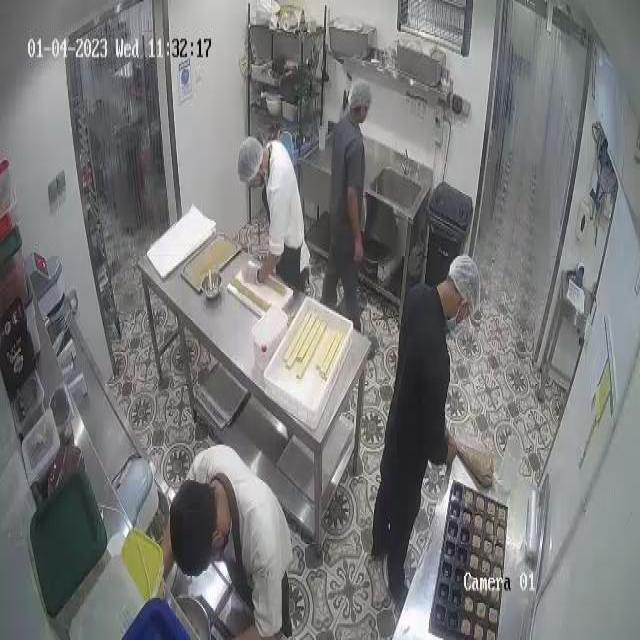hairnet: (169, 480, 214, 572), (450, 251, 482, 312), (237, 138, 260, 183), (348, 81, 372, 110)
